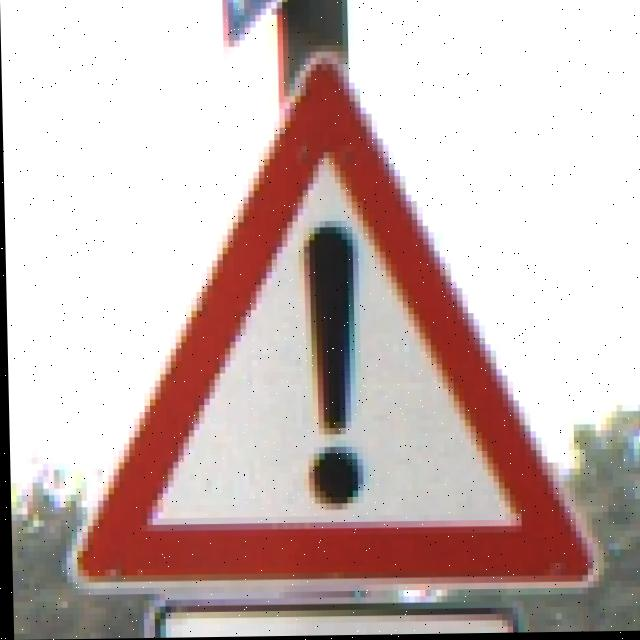warning: (94, 98, 583, 639)
